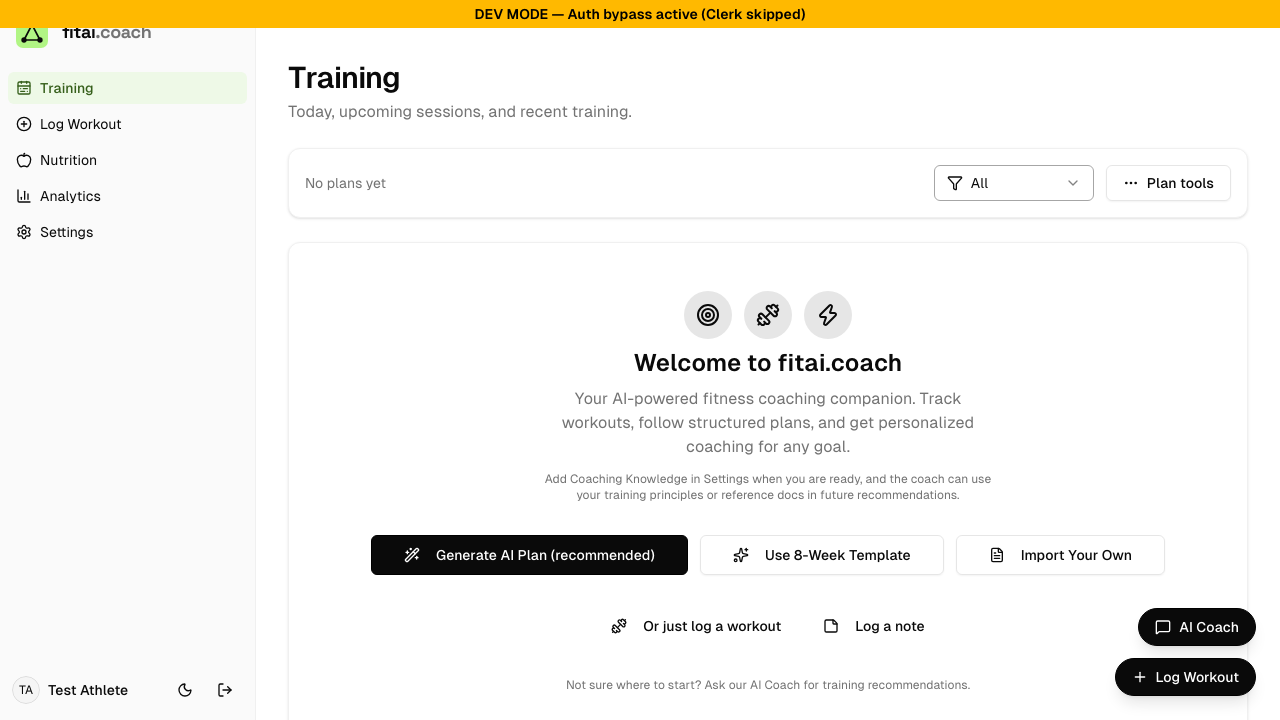
Test: Plan Generation › walks forward through the wizard steps
Click the button with test id "button-generate-ai-plan" at (530, 555), box [371, 535, 688, 575]
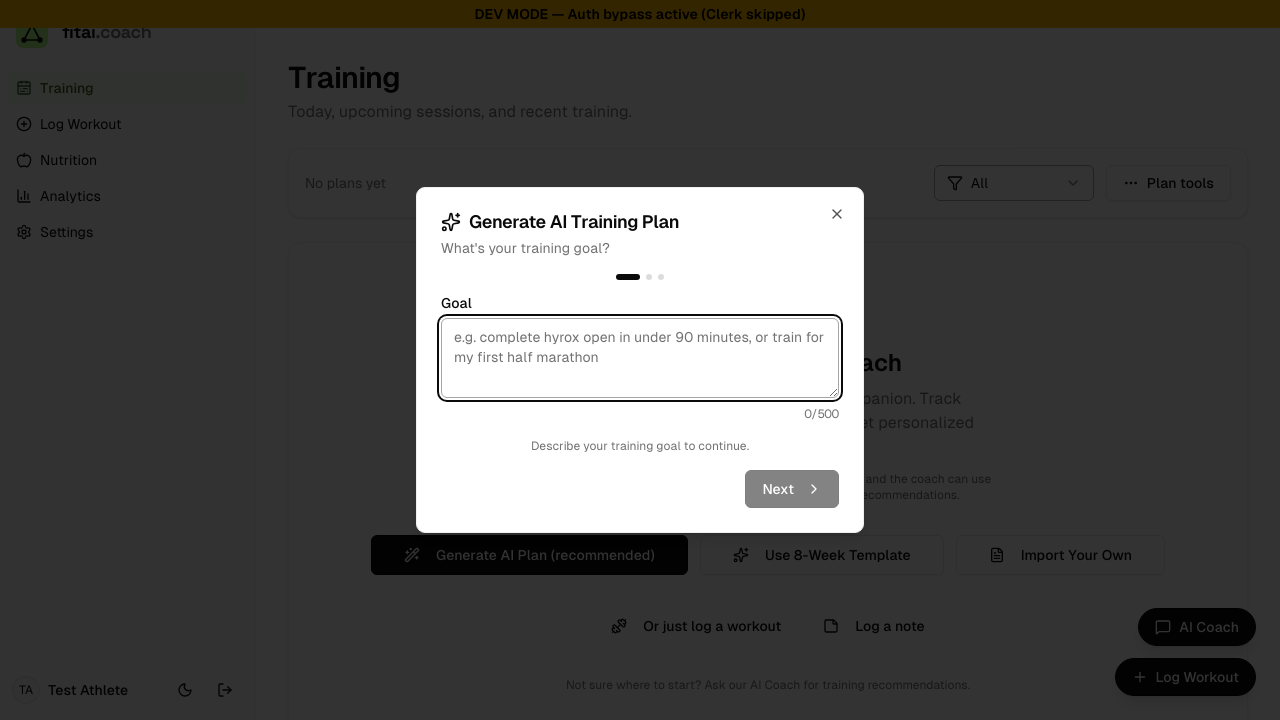
Note: Step 0 — Goal textarea is required to enable Next
Type "Prepare for Hyrox Doubles in 8 weeks" into the text box with id "goal" at (640, 358), box [441, 318, 839, 398]
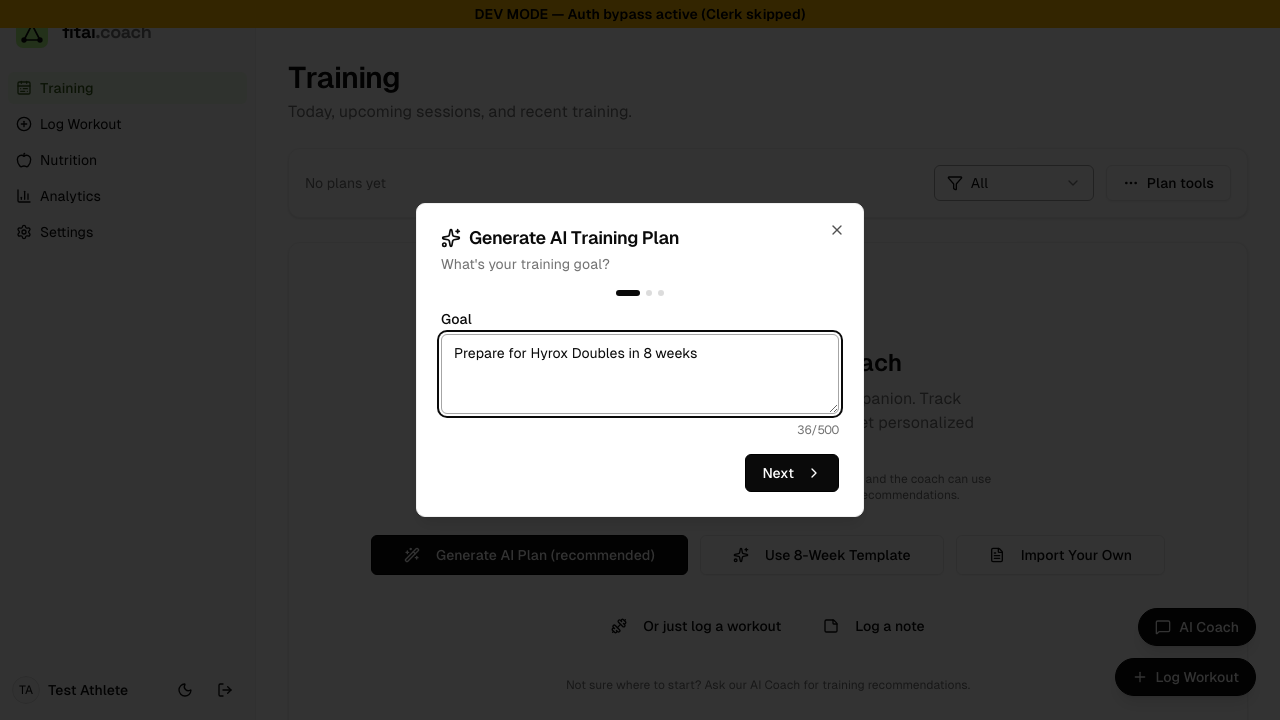
Click the button "Next" at (792, 473), box [745, 454, 839, 492]
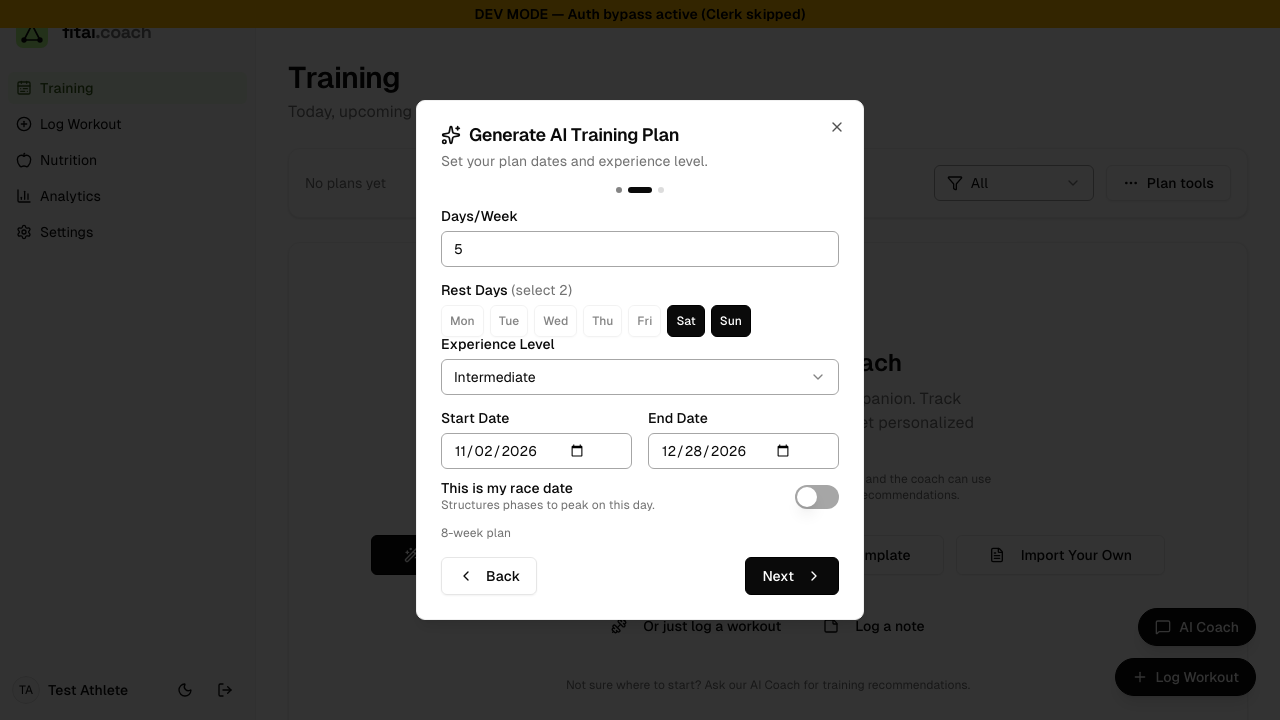
Expected: the text "Days/Week" is shown, [441, 208, 518, 224]
Expected: the text "Experience Level" is shown, [441, 336, 555, 352]
Expected: the text "Start Date" is shown, [441, 410, 510, 426]
